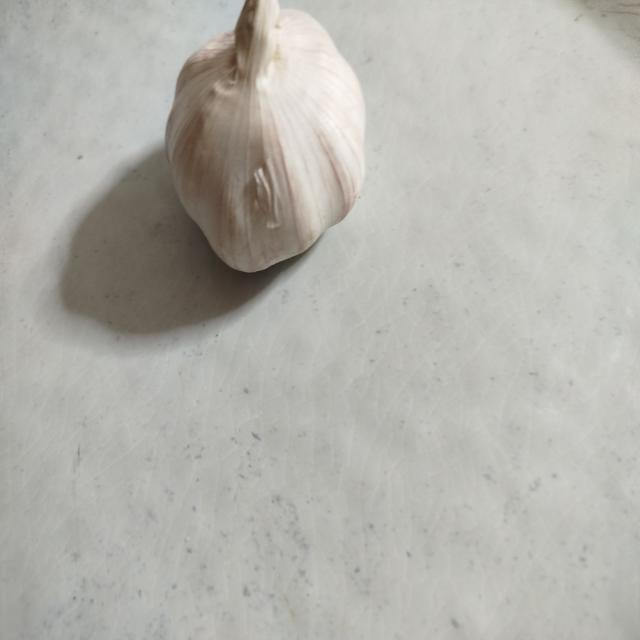garlic: (163, 0, 366, 273)
